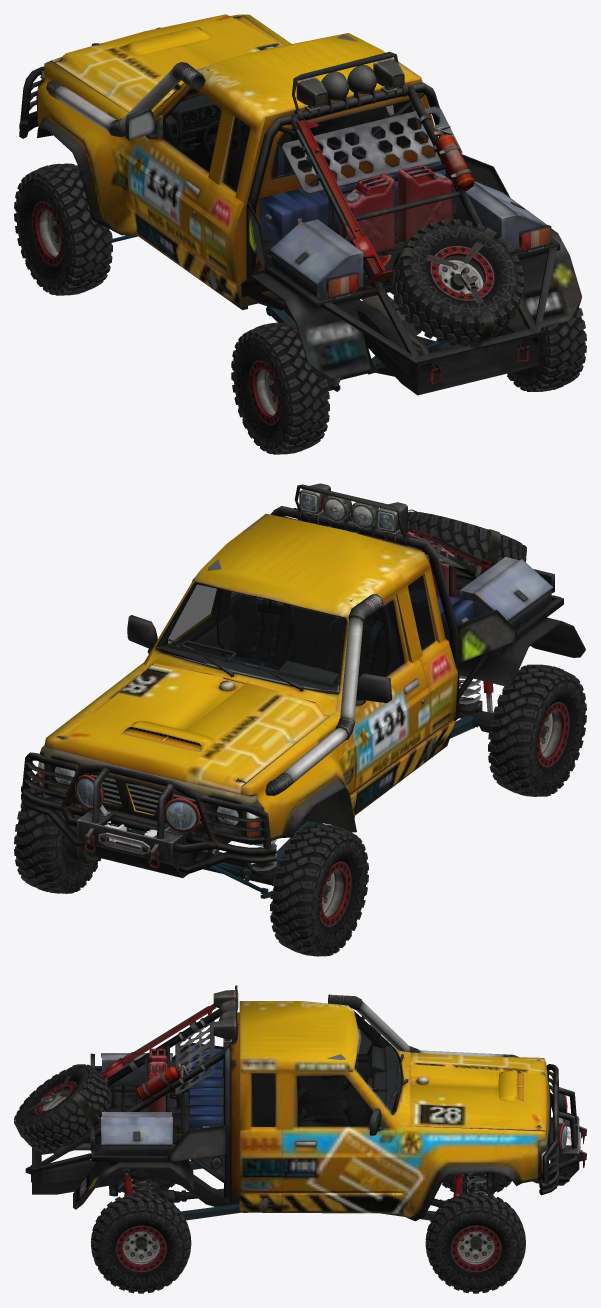
File: patrol_lo.glb
3 views of the same model, one above another, from view 1: azimuth 30°, elevation 25°; view 2: azimuth 150°, elevation 25°; view 3: azimuth 270°, elevation 25° (orthographic). The views are drawn at different scales.
Parts seen in each view (by area): view 1: prochee.001_Chassis.004_0, Chassis_Chassis.004_0, bonnet_ok_Chassis.004_0, door_lf_ok_Chassis.004_0, zapaska.001_zapaska.002_0, wheel.003_zapaska.002_0, wheel.004_zapaska.002_0, prochee.001_prochee.005_0, glass_glass.001_0, wheel.002_zapaska.002_0, prochee.001_prochee.028_0, door_lf_glass_glass.001_0 (+11 smaller); view 2: Chassis_Chassis.004_0, bonnet_ok_Chassis.004_0, glass_glass.001_0, prochee.001_prochee.031_0, prochee.001_Chassis.004_0, door_lf_ok_Chassis.004_0, wheel.004_zapaska.002_0, wheel.003_zapaska.002_0, prochee.001_prochee.021_0, wheel.001_zapaska.002_0, Chassis_Chassis.003_0, prochee.001_prochee.026_0 (+14 smaller); view 3: Chassis_Chassis.004_0, prochee.001_Chassis.004_0, door_rf_ok_Chassis.004_0, bonnet_ok_Chassis.004_0, wheel.002_zapaska.002_0, wheel.001_zapaska.002_0, prochee.001_prochee.005_0, zapaska.001_zapaska.002_0, glass_glass.001_0, door_rf_glass_glass.001_0, prochee.001_prochee.031_0, wheel.002_prochee.030_0 (+11 smaller).
Boxes of the visible parts, x1,y1,x2,y2 form: prochee.001_Chassis.004_0: [246, 51, 560, 365]; Chassis_Chassis.004_0: [37, 14, 581, 379]; bonnet_ok_Chassis.004_0: [51, 14, 285, 112]; door_lf_ok_Chassis.004_0: [125, 86, 223, 285]; zapaska.001_zapaska.002_0: [391, 219, 523, 346]; wheel.003_zapaska.002_0: [231, 322, 329, 454]; wheel.004_zapaska.002_0: [14, 163, 112, 295]; prochee.001_prochee.005_0: [263, 206, 549, 395]; glass_glass.001_0: [185, 89, 426, 190]; wheel.002_zapaska.002_0: [507, 308, 586, 391]; prochee.001_prochee.028_0: [296, 58, 404, 119]; door_lf_glass_glass.001_0: [164, 89, 220, 171]; Chassis_Chassis.004_0: [39, 513, 585, 844]; bonnet_ok_Chassis.004_0: [52, 663, 329, 794]; glass_glass.001_0: [157, 576, 434, 690]; prochee.001_prochee.031_0: [21, 752, 276, 877]; prochee.001_Chassis.004_0: [168, 484, 563, 721]; door_lf_ok_Chassis.004_0: [352, 595, 431, 813]; wheel.004_zapaska.002_0: [270, 824, 368, 956]; wheel.003_zapaska.002_0: [488, 664, 586, 796]; prochee.001_prochee.021_0: [223, 593, 393, 679]; wheel.001_zapaska.002_0: [14, 772, 101, 893]; Chassis_Chassis.003_0: [157, 559, 433, 685]; prochee.001_prochee.026_0: [265, 594, 383, 795]; Chassis_Chassis.004_0: [73, 1001, 550, 1221]; prochee.001_Chassis.004_0: [14, 985, 408, 1202]; door_rf_ok_Chassis.004_0: [283, 1072, 397, 1210]; bonnet_ok_Chassis.004_0: [410, 1052, 548, 1136]; wheel.002_zapaska.002_0: [91, 1192, 191, 1293]; wheel.001_zapaska.002_0: [425, 1192, 525, 1293]; prochee.001_prochee.005_0: [25, 1070, 542, 1206]; zapaska.001_zapaska.002_0: [15, 1064, 112, 1152]; glass_glass.001_0: [252, 1012, 402, 1125]; door_rf_glass_glass.001_0: [297, 1075, 372, 1126]; prochee.001_prochee.031_0: [534, 1064, 586, 1195]; wheel.002_prochee.030_0: [116, 1225, 166, 1272].
Size of the model in its own units: 3 by 2.98 by 6.48.
Materials: 23 (21 with a texture image).
